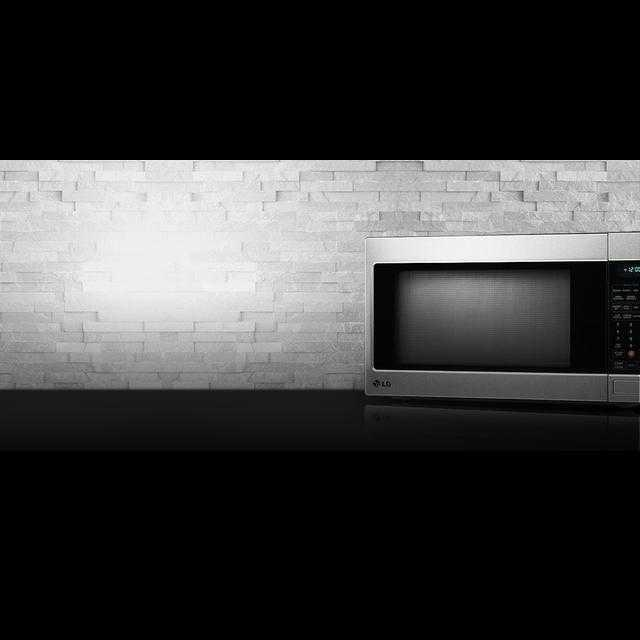Oven: (364, 235, 640, 407)
